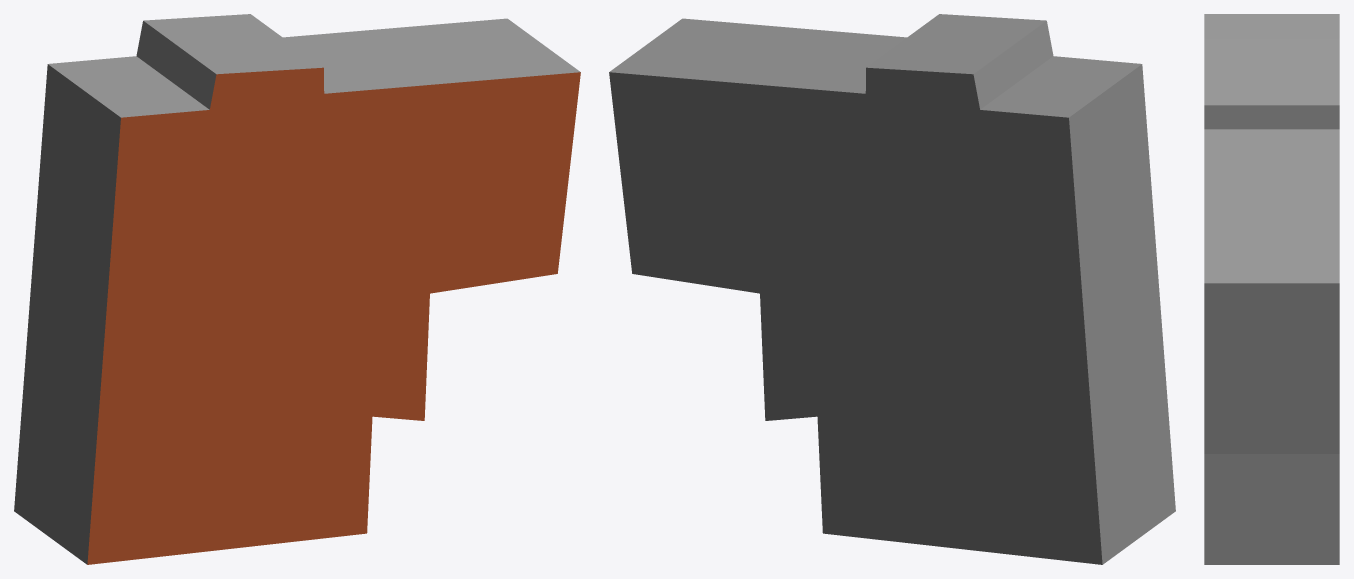
File: construction_3447_assumed_A_Casa_h6m.obj
3 renders of one model, left to right at view 1: azimuth 30°, elevation 25°; view 2: azimuth 150°, elevation 25°; view 3: azimuth 270°, elevation 25°, orthographic. The views are drawn at different scales.
Visible parts, largest first — view 1: construction_3447_assumed_A_Casa; view 2: construction_3447_assumed_A_Casa; view 3: construction_3447_assumed_A_Casa.
Part boxes in pixels (<box>): construction_3447_assumed_A_Casa: <box>14,14,580,564</box>; construction_3447_assumed_A_Casa: <box>609,14,1175,564</box>; construction_3447_assumed_A_Casa: <box>1204,14,1339,564</box>.
Bounding box in the file's own units: 23.3 × 22.38 × 6.
